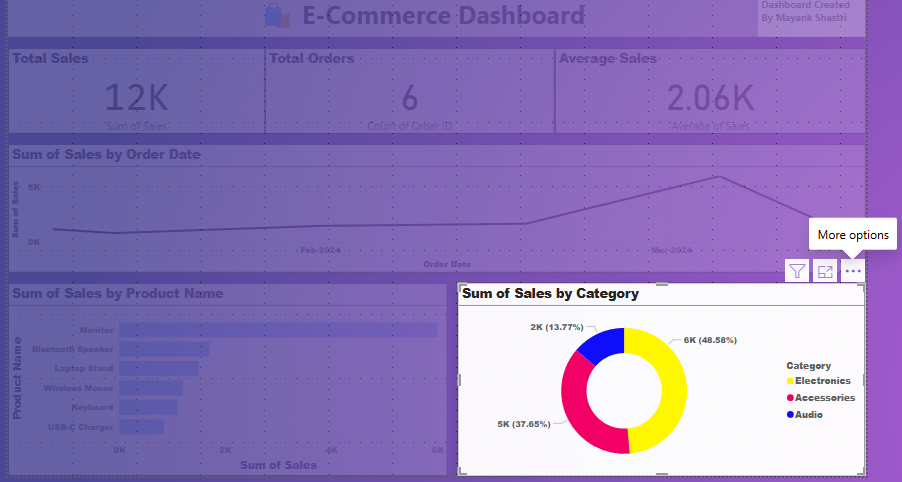

The dashboard page shown, as its layout file describes it:
{"tool":"powerbi","page":{"name":"E-Commerce","canvas":[1280,720],"ordinal":0},"visuals":[{"type":"card","title":"Total Sales","fields":{"Values":["Sum(ecommerce_sales.Sales)"]},"box":[0,80,384,128],"z":0},{"type":"lineChart","fields":{"Y":["Sum(ecommerce_sales.Sales)"],"Category":["ecommerce_sales.Order Date"]},"box":[0,224,1280,192],"z":1000},{"type":"barChart","fields":{"Category":["ecommerce_sales.Product Name"],"Y":["Sum(ecommerce_sales.Sales)"]},"box":[0,432,656,288],"z":2000},{"type":"donutChart","fields":{"Category":["ecommerce_sales.Category"],"Y":["Sum(ecommerce_sales.Sales)"]},"box":[672,432,608,288],"z":3000},{"type":"textbox","box":[0,0,1280,64],"z":4000},{"type":"card","title":"Total Orders","fields":{"Values":["Count(ecommerce_sales.Order ID)"]},"box":[384,80,432,128],"z":5000},{"type":"card","title":"Average Sales","fields":{"Values":["Avg(ecommerce_sales.Sales)"]},"box":[816,80,464,128],"z":6000},{"type":"textbox","box":[1120,0,160,64],"z":8000}]}

Visuals, with their boxes in screenshot pixels (x1, y1, x2, y2):
"Total Sales" card: (x1=19, y1=50, x2=272, y2=135)
lineChart - Sum(ecommerce_sales.Sales) x ecommerce_sales.Order Date: (x1=19, y1=145, x2=863, y2=272)
barChart - ecommerce_sales.Product Name x Sum(ecommerce_sales.Sales): (x1=19, y1=283, x2=451, y2=473)
donutChart - ecommerce_sales.Category x Sum(ecommerce_sales.Sales): (x1=462, y1=283, x2=863, y2=473)
textbox: (x1=19, y1=0, x2=863, y2=40)
"Total Orders" card: (x1=272, y1=50, x2=557, y2=135)
"Average Sales" card: (x1=557, y1=50, x2=863, y2=135)
textbox: (x1=757, y1=0, x2=863, y2=40)
